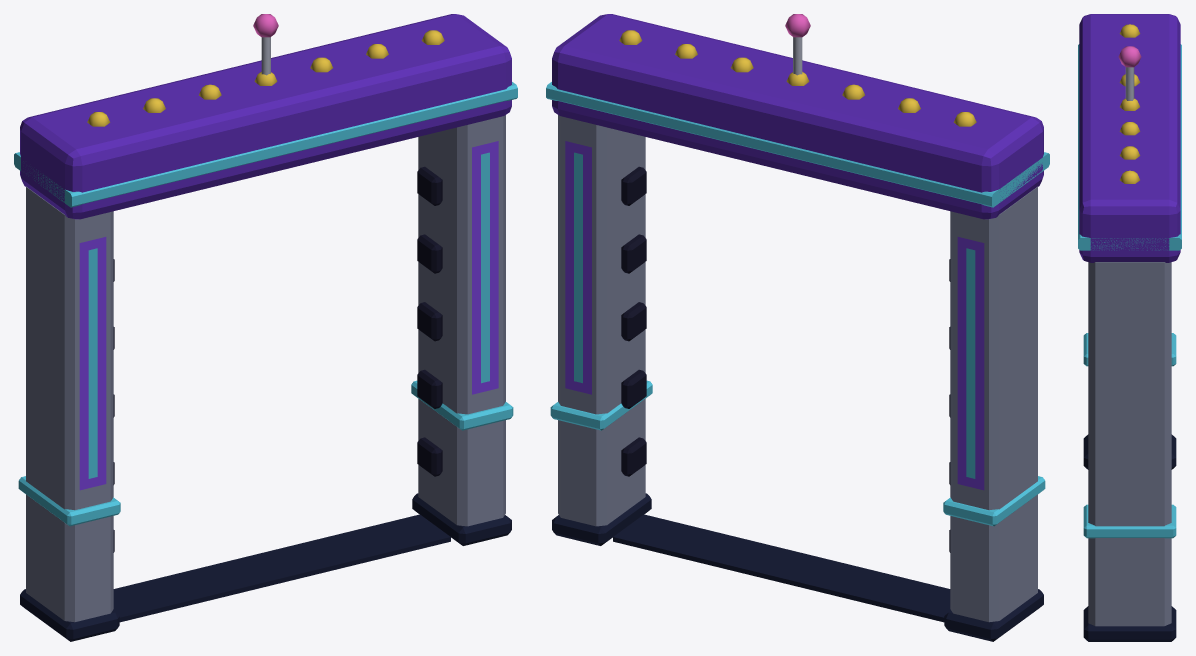
Rendered from space-gateframe.glb.
3 renders of one model, left to right at view 1: azimuth 30°, elevation 25°; view 2: azimuth 150°, elevation 25°; view 3: azimuth 270°, elevation 25°, orthographic. The views are drawn at different scales.
Visible parts, largest first — view 1: space-gateframe; view 2: space-gateframe; view 3: space-gateframe.
Boxes of the visible parts, <box> form: space-gateframe: <box>14,14,517,641</box>; space-gateframe: <box>546,14,1049,641</box>; space-gateframe: <box>1078,14,1181,641</box>.
Size of the model in its own units: 2 by 2.39 by 0.45.
